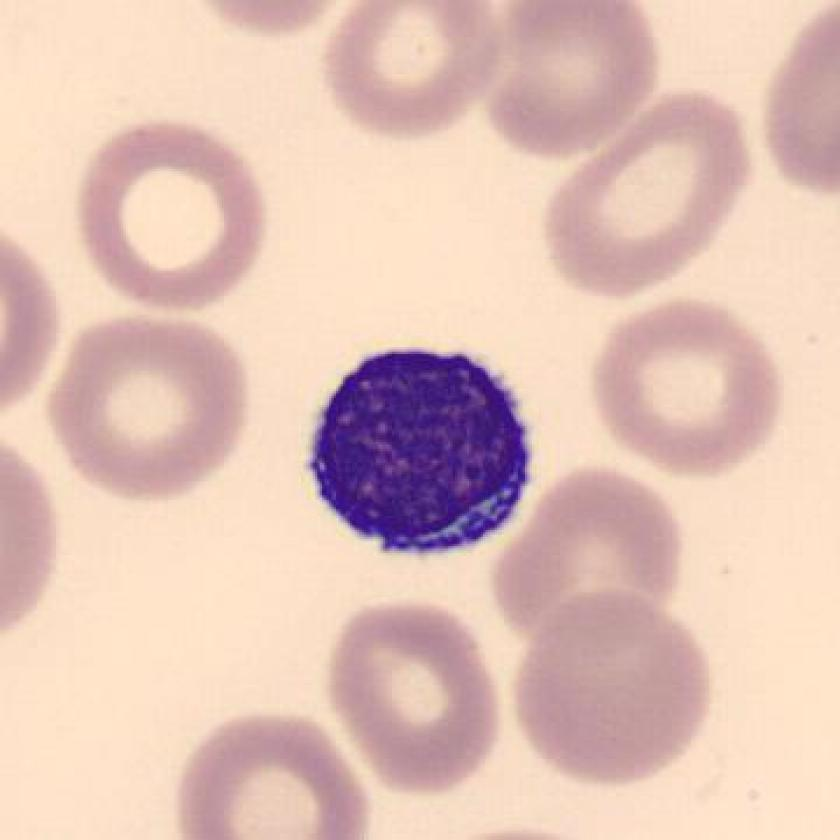lymphocyte: (290, 332, 547, 579)
